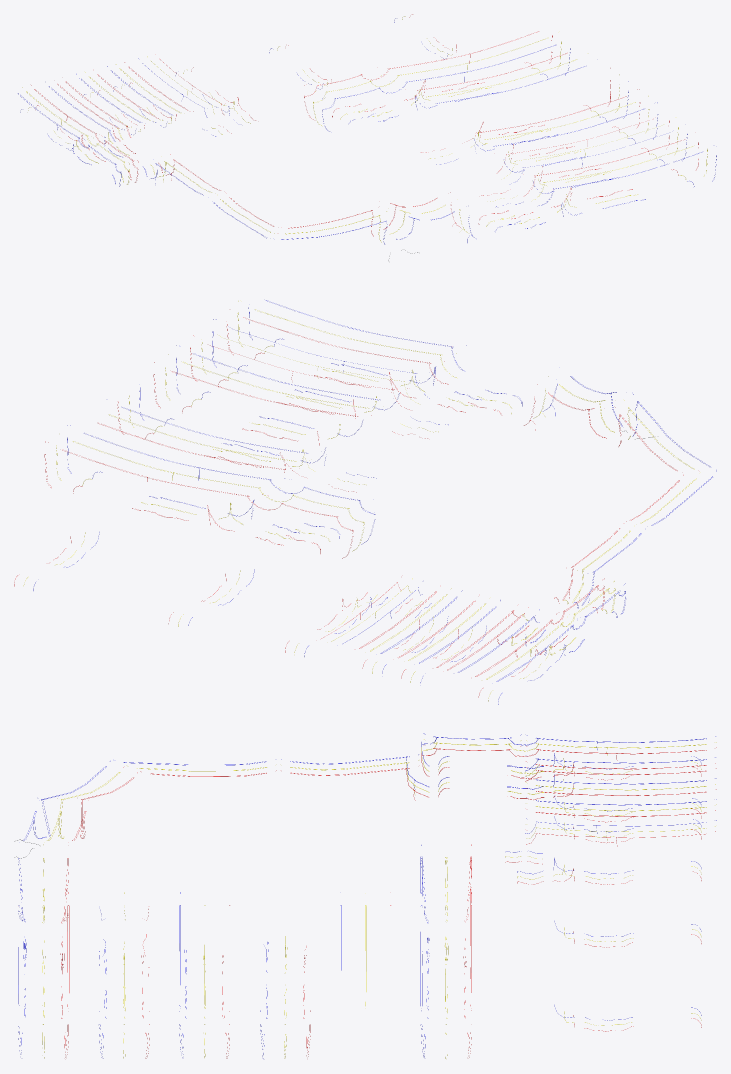
3 renders of one model, top to bottom at view 1: azimuth 30°, elevation 25°; view 2: azimuth 150°, elevation 25°; view 3: azimuth 270°, elevation 25°, orthographic. The views are drawn at different scales.
Parts seen in each view (by area): view 1: Line2889; view 2: Line2889; view 3: Line2889.
Part boxes in pixels (box(x1,y1,x2,y2)): Line2889: box(18, 14, 716, 260); Line2889: box(14, 300, 716, 704); Line2889: box(14, 733, 716, 1058).
Size of the model in its own units: 115 by 11.09 by 113.
